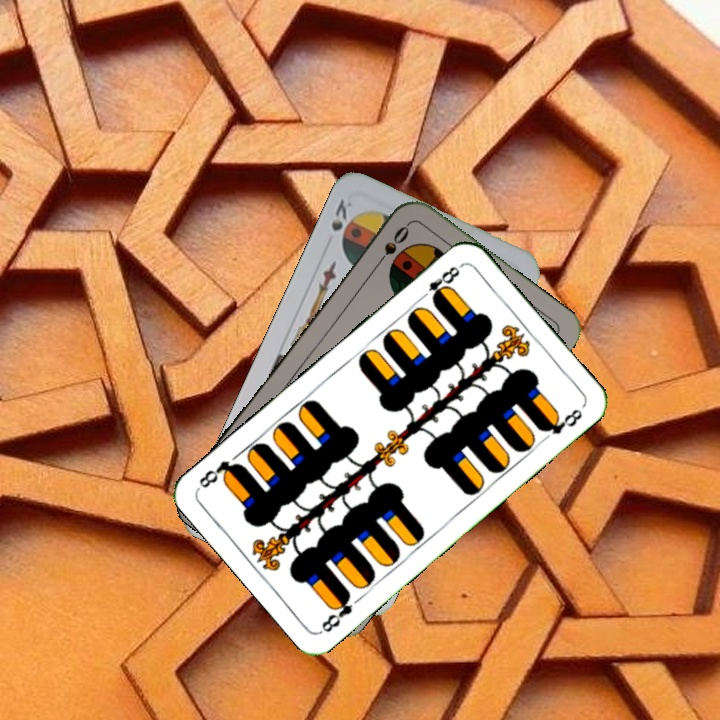E8: (415, 261, 464, 305), (317, 588, 356, 635)
SK: (327, 194, 355, 234)
SO: (371, 220, 412, 271)
